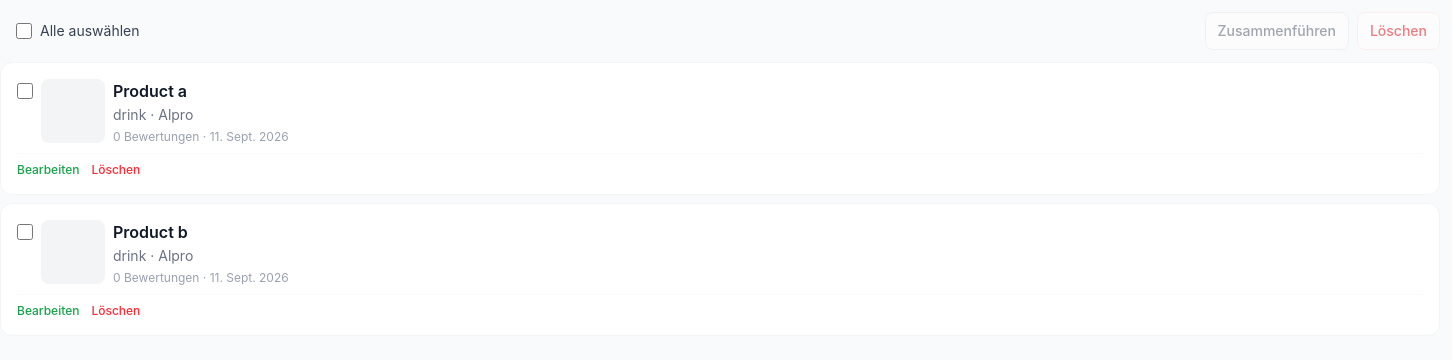
it: AdminProductList › given all products are selected › when deselecting all products › deselects every product
This screenshot has width=1452, height=360.
Click the checkbox named "Alle Produkte auswählen" at (24, 31), box [16,23,32,39]
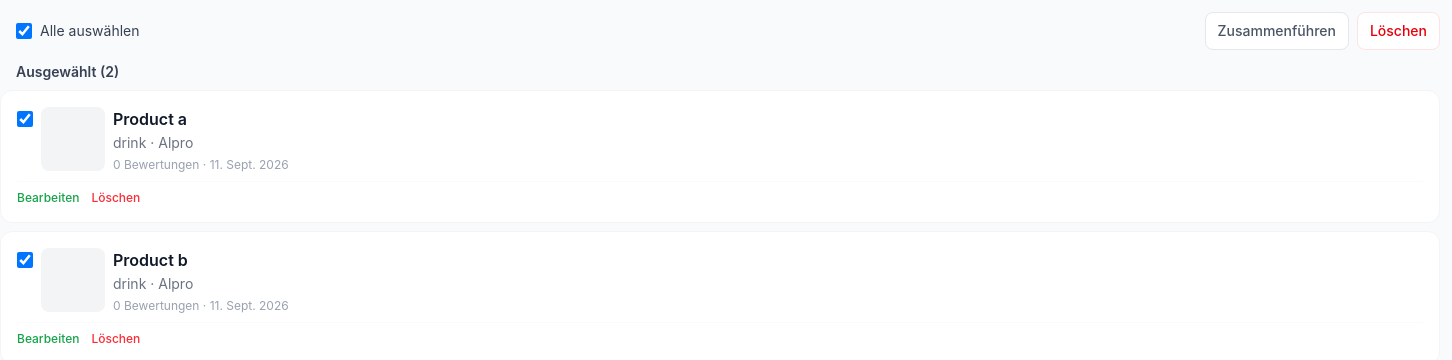
Click the checkbox named "Alle Produkte auswählen" at (24, 31), box [16,23,32,39]
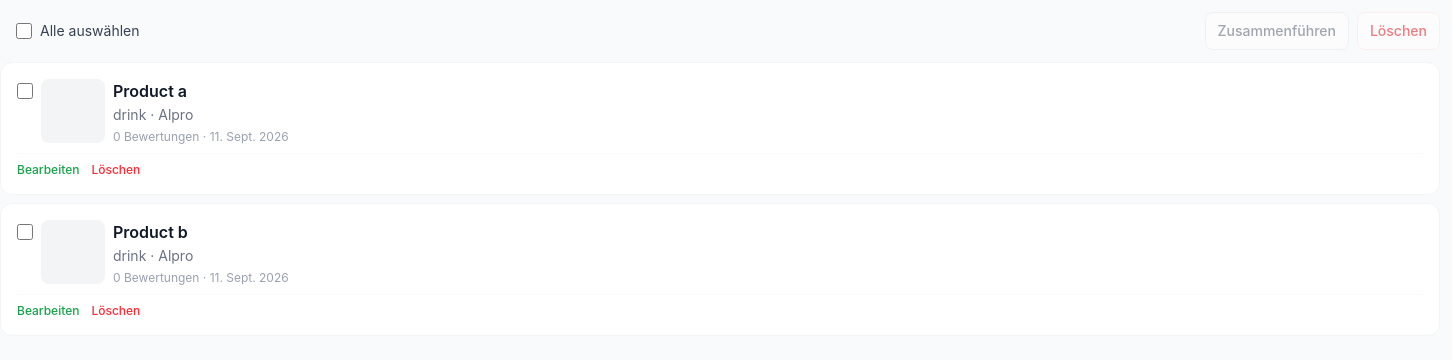
Expected: the checkbox named "Product a auswählen" is not checked, [17,83,33,99]
Expected: the checkbox named "Product b auswählen" is not checked, [17,224,33,240]
